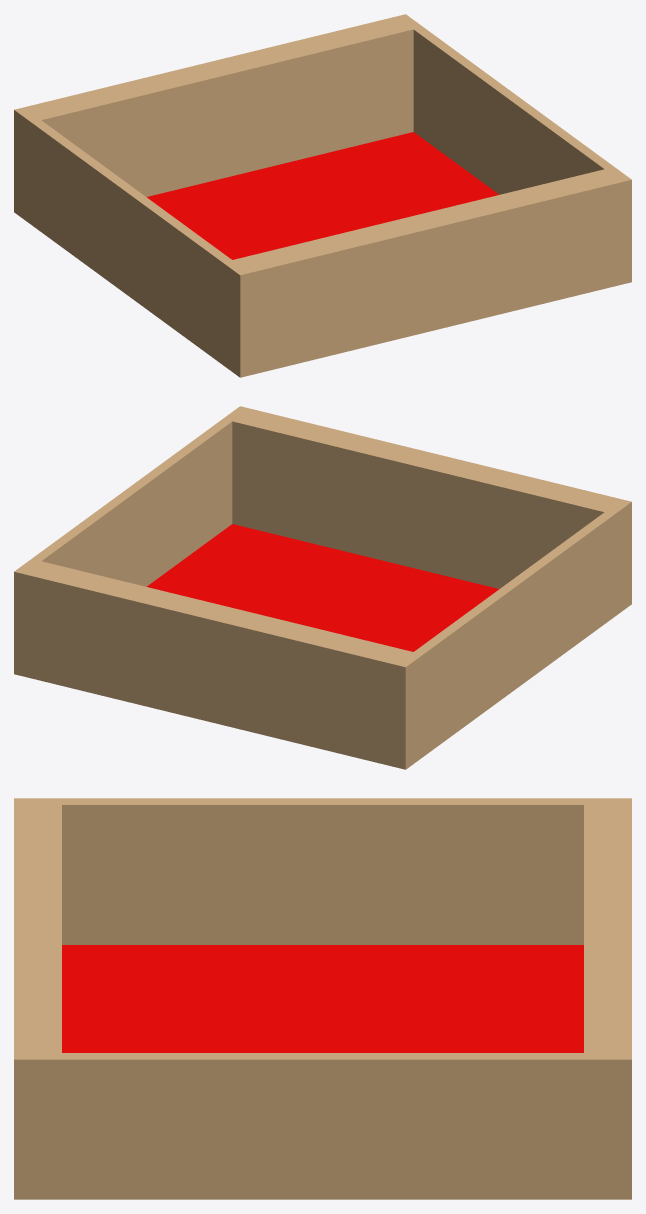
Rendered from square_mold_red.gltf.
3 renders of one model, top to bottom at view 1: azimuth 30°, elevation 25°; view 2: azimuth 150°, elevation 25°; view 3: azimuth 270°, elevation 25°, orthographic. The views are drawn at different scales.
Parts seen in each view (by area): view 1: Mold, Base; view 2: Mold, Base; view 3: Mold, Base.
Boxes of the visible parts, x1=… form: Mold: x1=14, y1=14, x2=631, y2=377; Base: x1=146, y1=132, x2=499, y2=259; Mold: x1=14, y1=406, x2=631, y2=769; Base: x1=146, y1=524, x2=499, y2=651; Mold: x1=14, y1=798, x2=631, y2=1199; Base: x1=62, y1=945, x2=583, y2=1052.
Bounding box in the file's own units: 0.2 × 0.05 × 0.2.
